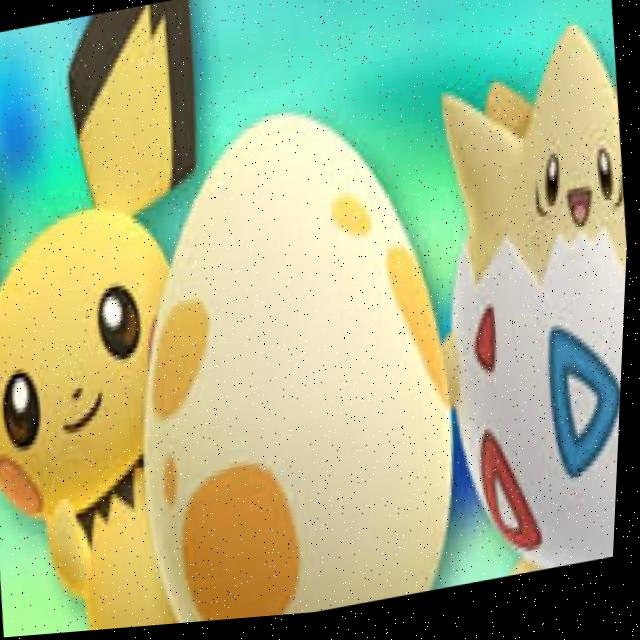pichu: (0, 0, 258, 640)
